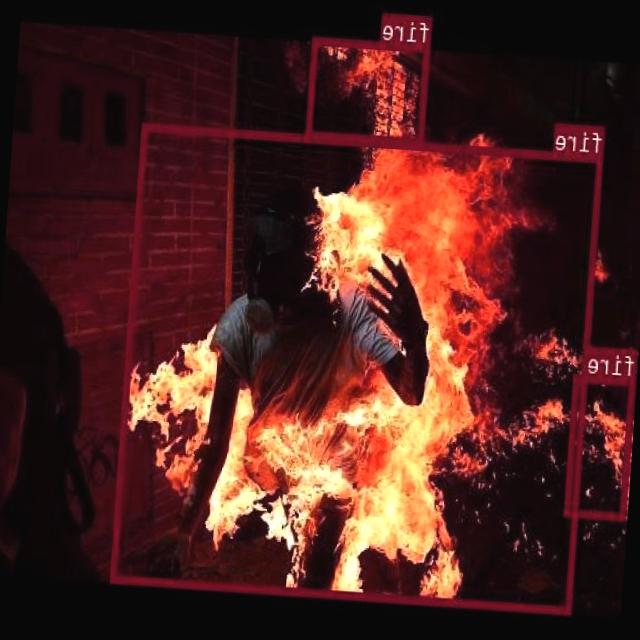fire: (111, 122, 604, 613), (306, 34, 432, 145), (564, 374, 636, 520)
